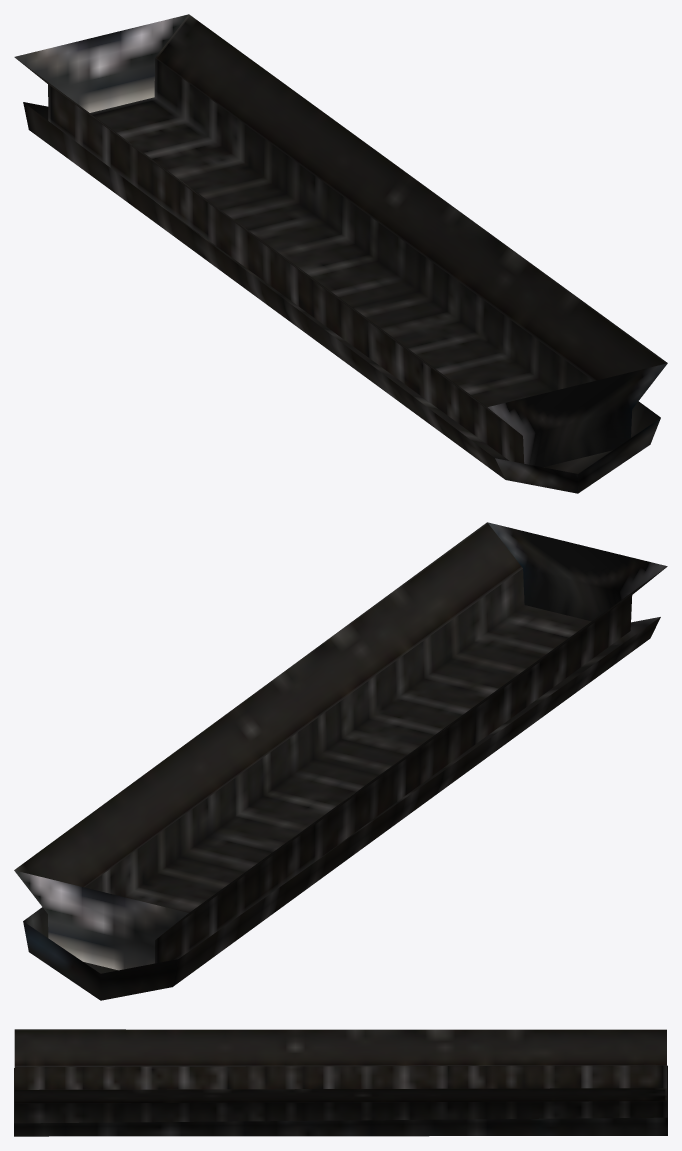
Rendered from RIS_Grip.fbx.
3 views of the same model, one above another, from view 1: azimuth 30°, elevation 25°; view 2: azimuth 150°, elevation 25°; view 3: azimuth 270°, elevation 25° (orthographic). The views are drawn at different scales.
Visible parts, largest first — view 1: RIS_Grip; view 2: RIS_Grip; view 3: RIS_Grip.
Part boxes in pixels (<box>): RIS_Grip: <box>14,14,667,493</box>; RIS_Grip: <box>14,522,667,1000</box>; RIS_Grip: <box>14,1029,667,1136</box>.
Size of the model in its own units: 0.0216 by 0.0986 by 0.0125.
